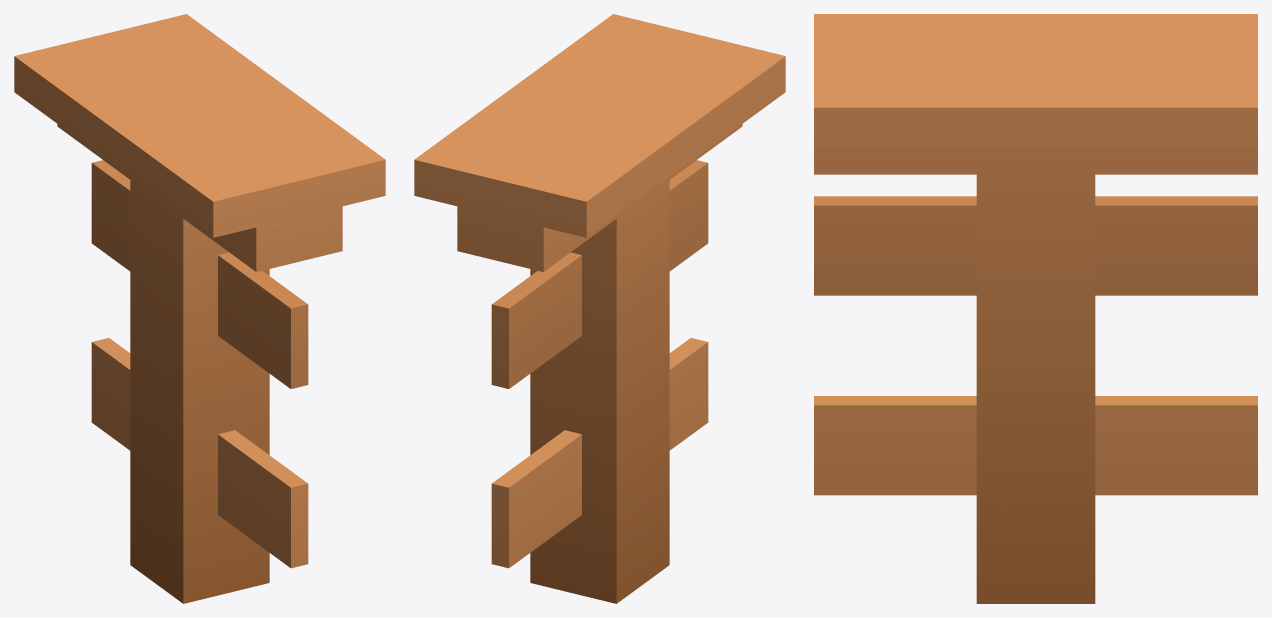
The model's file is railing_1.glb.
3 renders of one model, left to right at view 1: azimuth 30°, elevation 25°; view 2: azimuth 150°, elevation 25°; view 3: azimuth 270°, elevation 25°, orthographic. The views are drawn at different scales.
Parts seen in each view (by area): view 1: railing_1; view 2: railing_1; view 3: railing_1.
Part boxes in pixels (x1=…): railing_1: x1=14, y1=14, x2=385, y2=603; railing_1: x1=414, y1=14, x2=785, y2=603; railing_1: x1=814, y1=14, x2=1257, y2=603.
Bounding box in the file's own units: 0.4029 × 1.04 × 0.8057.
Materials: 1 (1 with a texture image).
